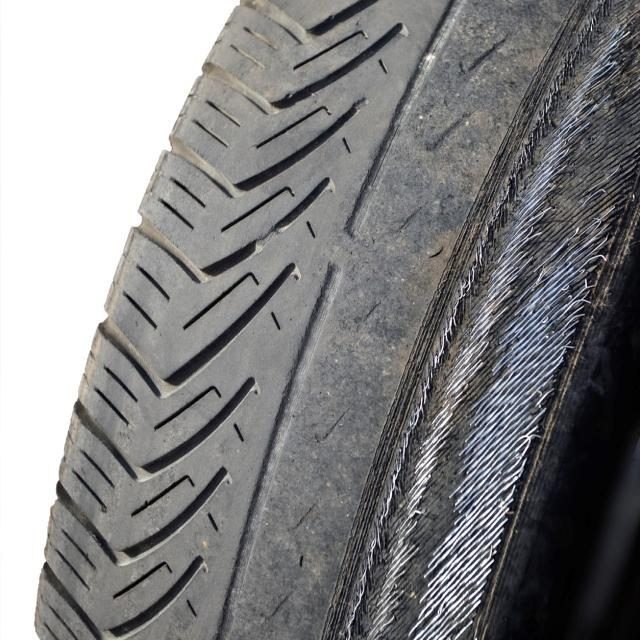Flat spots: (419, 4, 549, 640)
